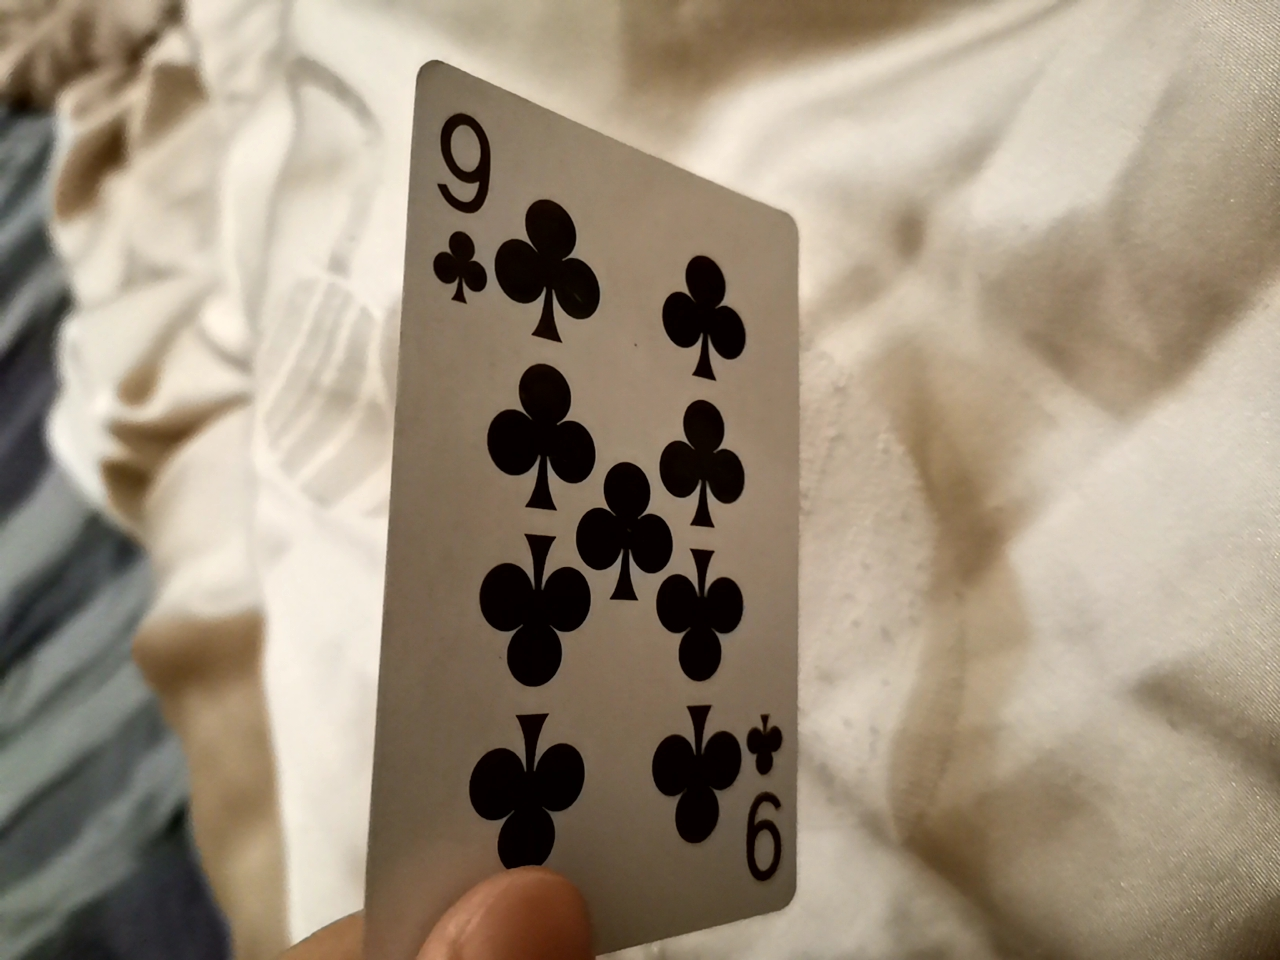mh 9: (391, 110, 865, 949)
